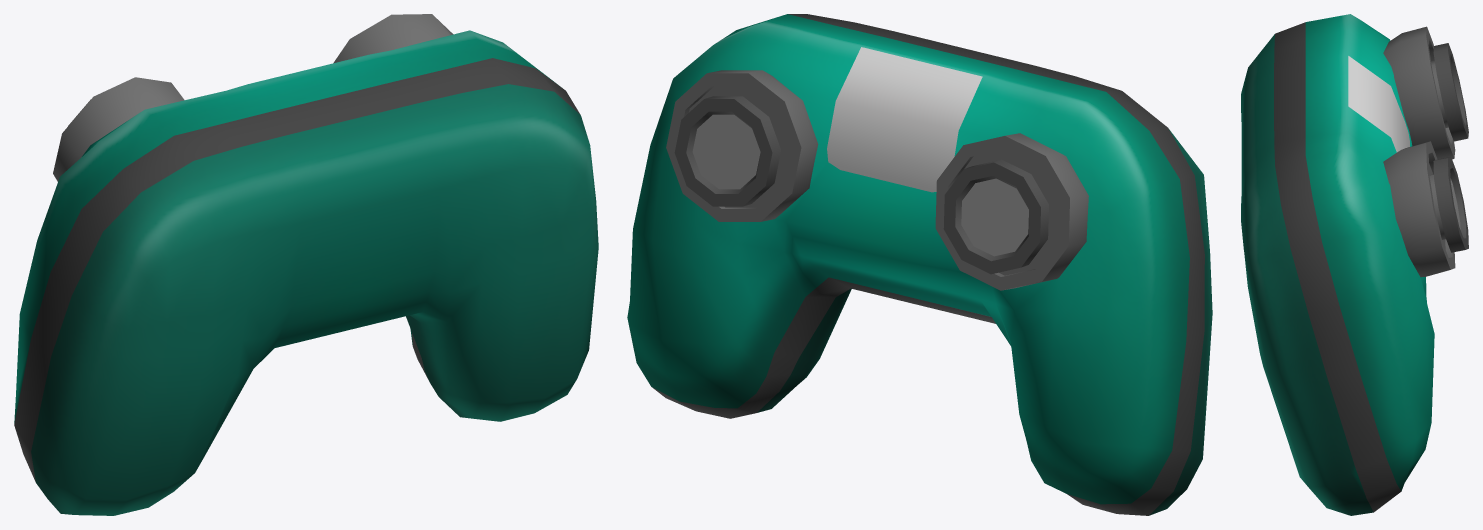
File: game controller.fbx
3 renders of one model, left to right at view 1: azimuth 30°, elevation 25°; view 2: azimuth 150°, elevation 25°; view 3: azimuth 270°, elevation 25°, orthographic. The views are drawn at different scales.
Parts seen in each view (by area): view 1: controller; view 2: controller; view 3: controller.
Boxes of the visible parts, left/top/right/bottom form: controller: left=14, top=14, right=598, bottom=515; controller: left=627, top=14, right=1212, bottom=515; controller: left=1241, top=14, right=1468, bottom=515.
Bounding box in the file's own units: 5.96 × 4.08 × 2.5.
1 material, 1 textured.
